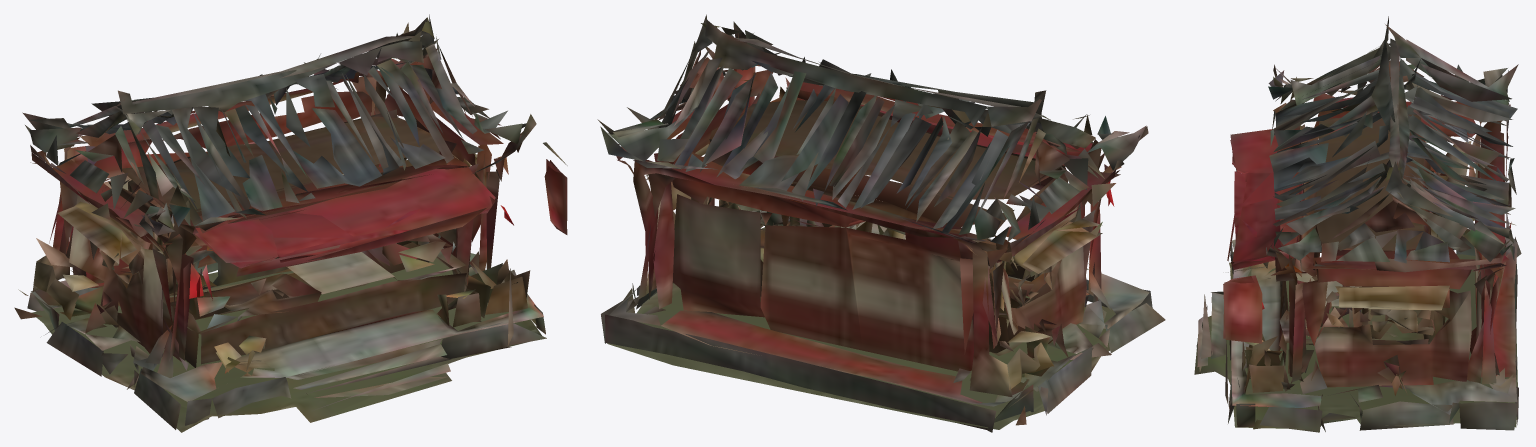
File: loja_lod2.glb
3 views of the same model, side by side, from view 1: azimuth 30°, elevation 25°; view 2: azimuth 150°, elevation 25°; view 3: azimuth 270°, elevation 25° (orthographic). The views are drawn at different scales.
Parts seen in each view (by area): view 1: loja; view 2: loja; view 3: loja.
Part boxes in pixels (x1,y1,x2,y2): loja: [14, 14, 567, 432]; loja: [597, 14, 1165, 432]; loja: [1194, 16, 1521, 432].
Size of the model in its own units: 7.03 by 4.64 by 5.21.
Materials: 1 (1 with a texture image).
